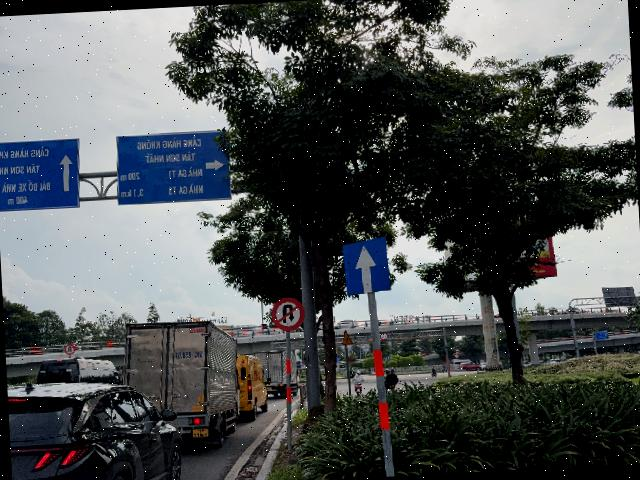cam-quay-dau-xe: (270, 296, 306, 332)
duong-mot-chieu: (342, 236, 392, 296)
